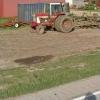Tractor: (26, 2, 89, 38)
